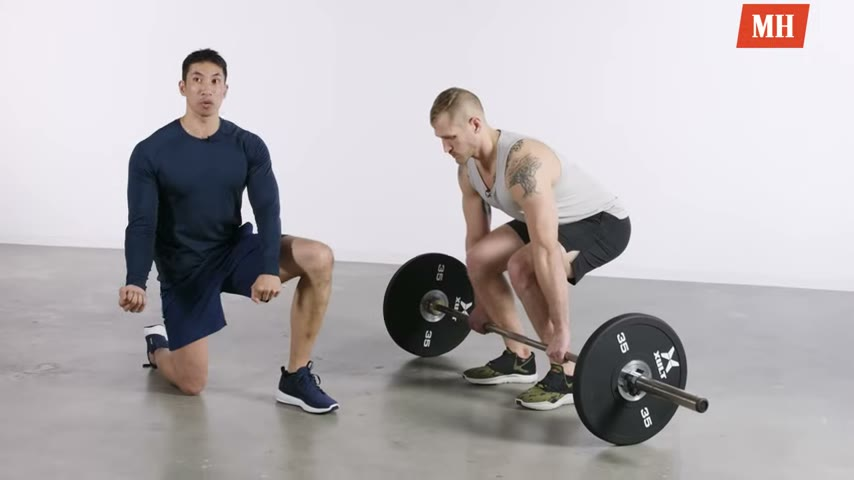barbell_plate_side: (374, 250, 471, 445), (624, 310, 711, 455)
